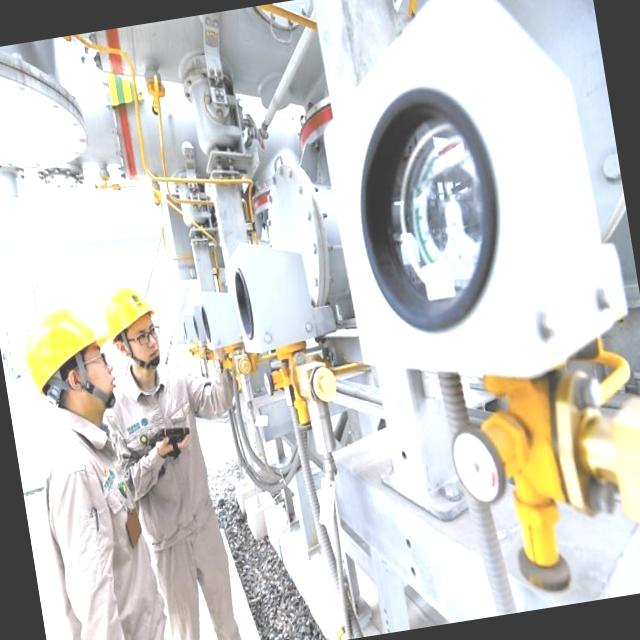helmet: (18, 302, 108, 390), (98, 272, 162, 348)
